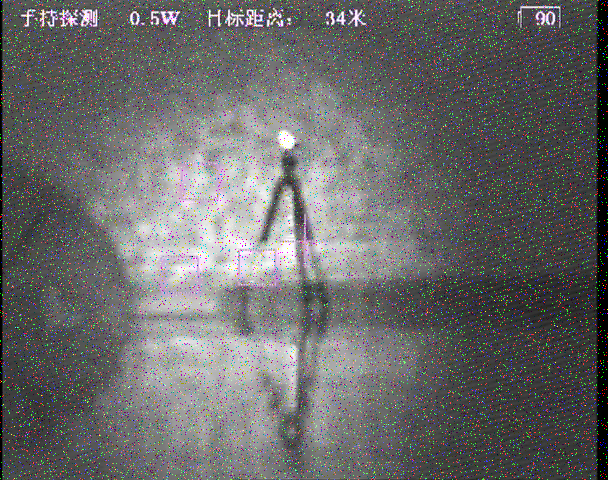my: (276, 126, 297, 153)
